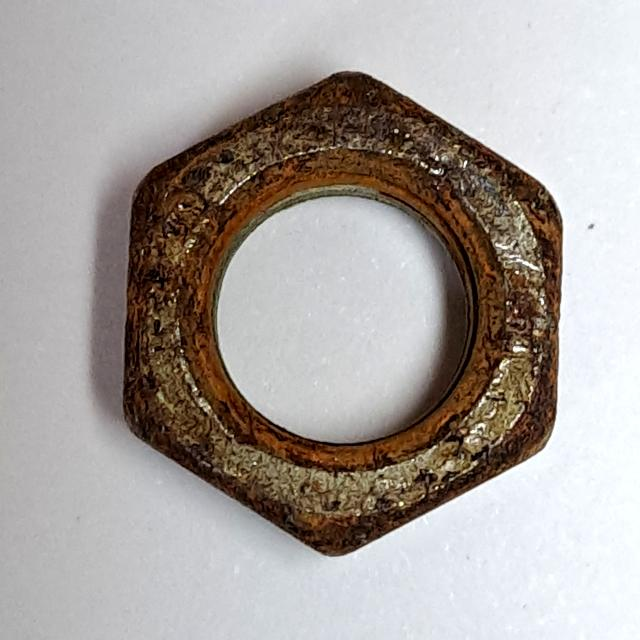Rust: (105, 60, 574, 577)
